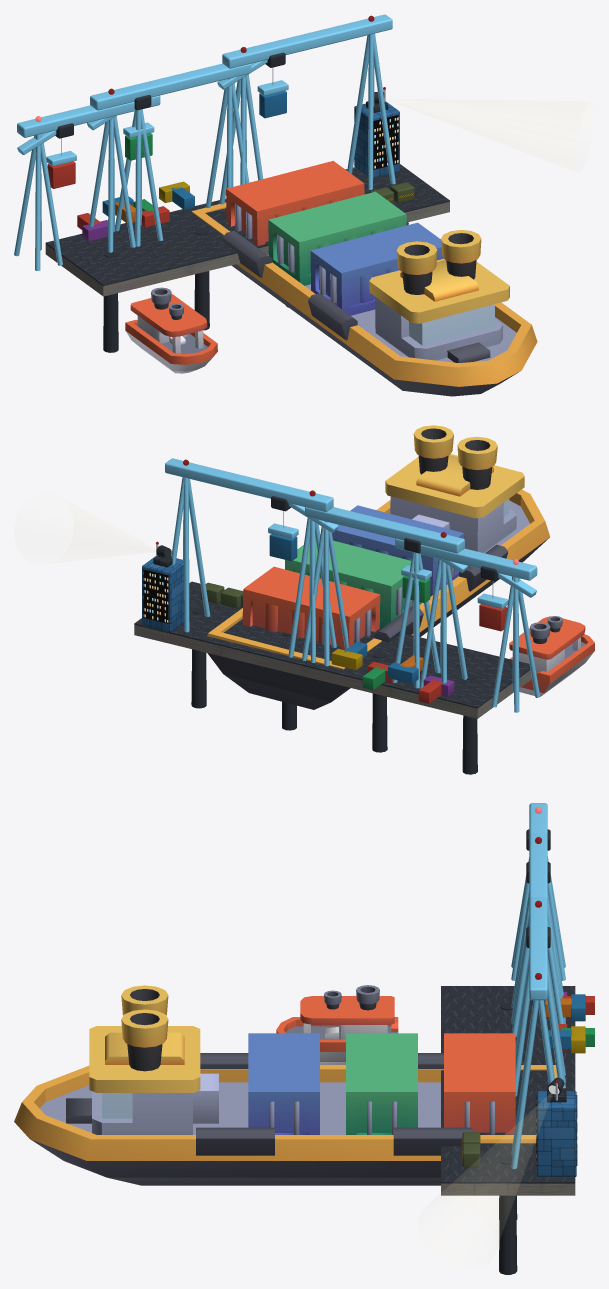
File: port.glb
3 renders of one model, top to bottom at view 1: azimuth 30°, elevation 25°; view 2: azimuth 150°, elevation 25°; view 3: azimuth 270°, elevation 25°, orthographic. The views are drawn at different scales.
Visible parts, largest first — view 1: ship-cargo-a, object 6, cargo-b, cargo-c, cargo-a, boat-tug-a, anim:trolley (×3), object 28, object 5, object 15, object 41, object 71 (+18 smaller); view 2: ship-cargo-a, object 6, cargo-c, object 5, cargo-b, boat-tug-a, anim:trolley (×3), object 28, cargo-a, object 15, object 41, object 71 (+21 smaller); view 3: ship-cargo-a, object 6, cargo-b, cargo-a, cargo-c, boat-tug-a, object 71, object 28, object 5, object 4, object 15, object 27 (+3 smaller).
Boxes of the visible parts, x1,y1,x2,y2 form: ship-cargo-a: (191,202,537,396); object 6: (45,164,449,285); cargo-b: (268,191,406,285); cargo-c: (226,160,364,245); cargo-a: (310,222,443,315); boat-tug-a: (125,287,217,373); anim:trolley (×3): (46,52,288,188); object 28: (222,14,392,68); object 5: (45,201,449,296); object 15: (90,63,251,110); object 41: (17,95,160,137); object 71: (354,101,399,178); ship-cargo-a: (207,425,549,709); object 6: (134,581,530,708); cargo-c: (242,566,380,649); object 5: (134,625,531,718); cargo-b: (285,538,421,627); boat-tug-a: (509,616,594,696); anim:trolley (×3): (268,496,508,631); object 28: (165,458,333,511); cargo-a: (332,505,463,596); object 15: (305,507,464,553); object 41: (395,538,537,580); object 71: (142,556,184,632); ship-cargo-a: (14,985,557,1185); object 6: (441,986,575,1183); cargo-b: (346,1033,417,1134); cargo-a: (248,1033,319,1134); cargo-c: (444,1033,515,1134); boat-tug-a: (276,985,398,1064); object 71: (537,1091,576,1177); object 28: (529,897,547,1000); object 5: (441,1183,575,1195); object 4: (499,1157,517,1274); object 15: (529,833,547,898); object 27: (511,1000,538,1168).
Size of the model in its own units: 11.96 by 5.39 by 9.53.
Materials: 24 (7 with a texture image).
